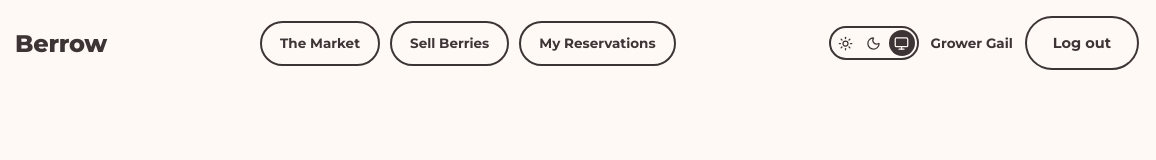
Test case: Header › logging out clears the current user without requiring a refresh
This screenshot has width=1156, height=160.
Expected: the text "Grower Gail" is shown, [930,33,1013,54]
Click the button "Log out" at (1082, 43), box [1025,16,1139,70]
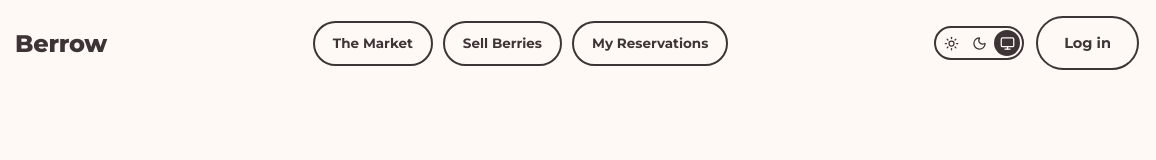
Result: the link "Log in" is shown at [1036,16,1139,70]
Result: the text "Grower Gail" is gone
